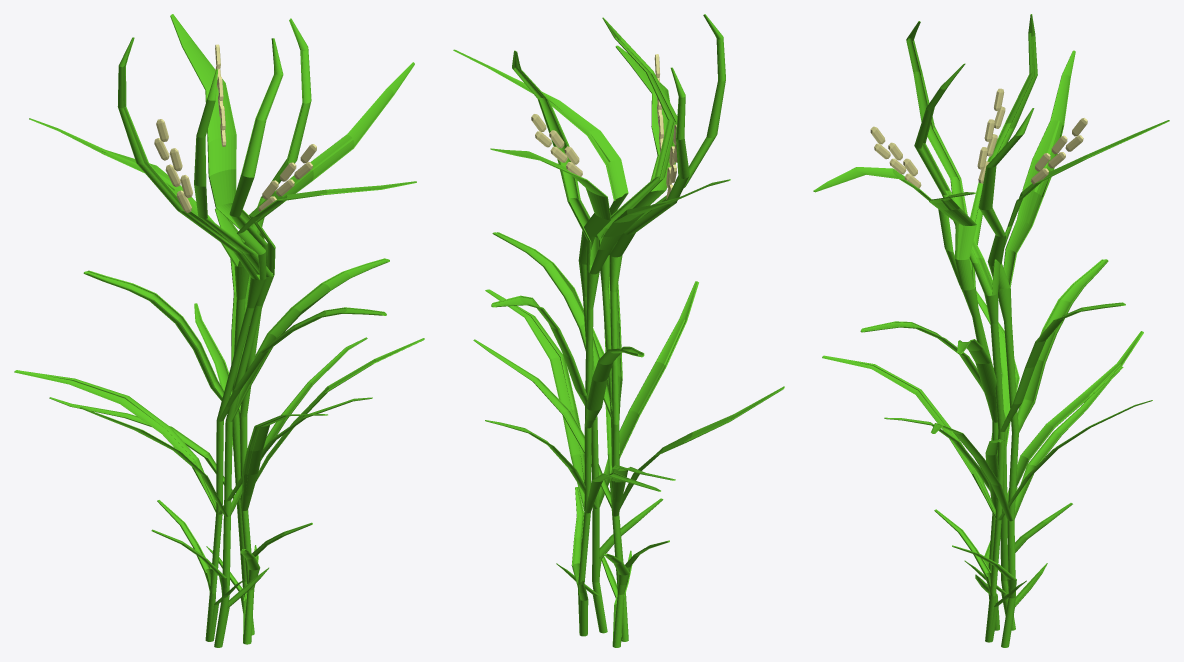
The model's file is rice2.fbx.
3 views of the same model, side by side, from view 1: azimuth 30°, elevation 25°; view 2: azimuth 150°, elevation 25°; view 3: azimuth 270°, elevation 25° (orthographic). The views are drawn at different scales.
Visible parts, largest first — view 1: rice stage 2; view 2: rice stage 2; view 3: rice stage 2.
Boxes of the visible parts, x1,y1,x2,y2 form: rice stage 2: (14,14,424,647); rice stage 2: (453,14,784,647); rice stage 2: (813,14,1169,647).
Size of the model in its own units: 45.59 by 80.22 by 44.06.
